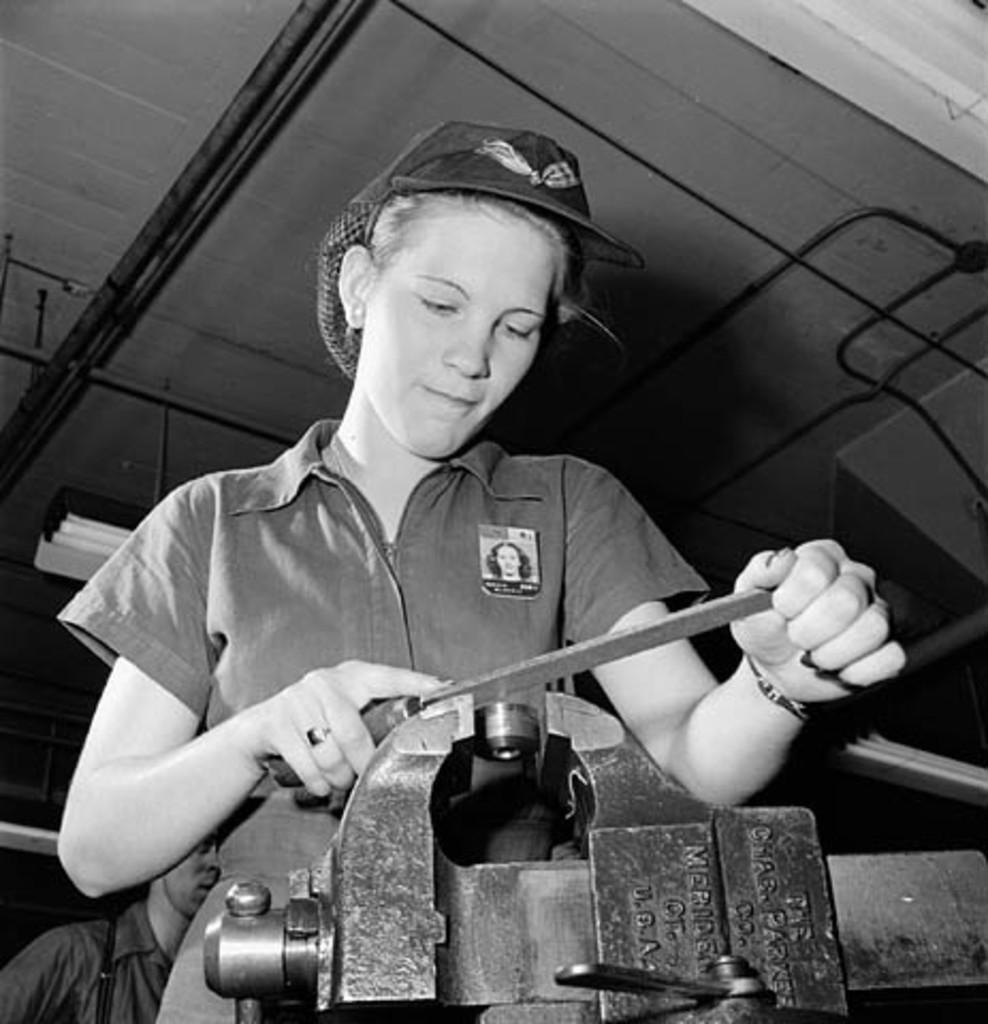Hat: (348, 120, 642, 274)
